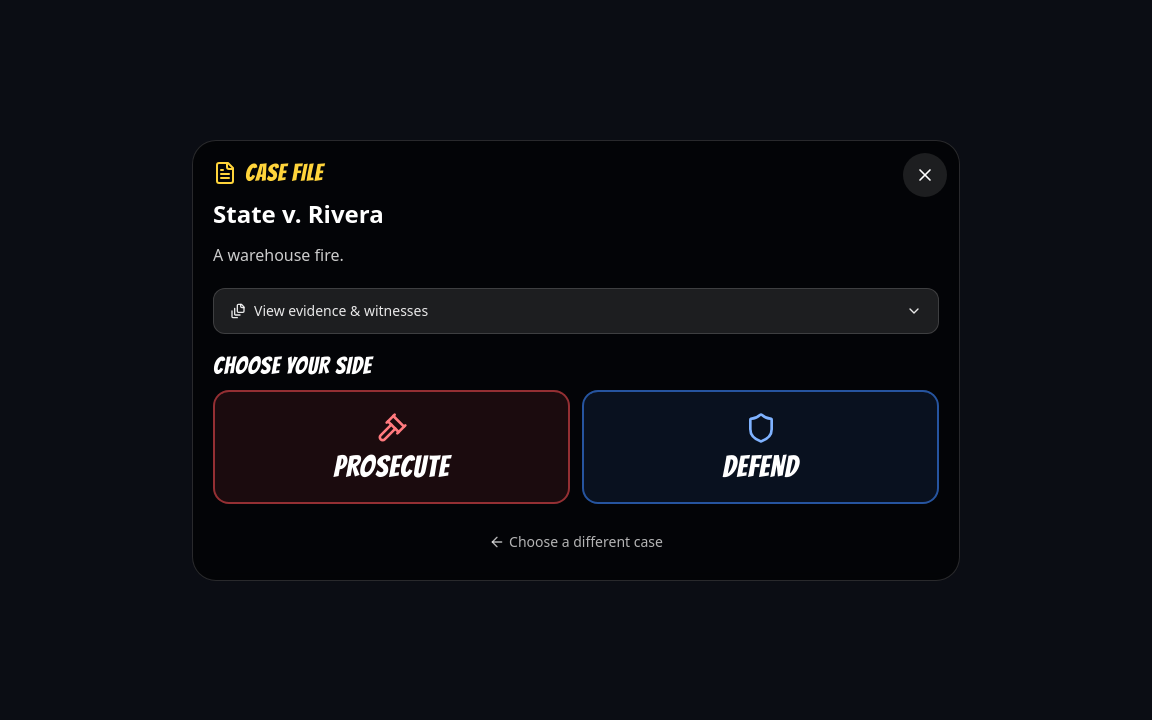
Test case: CasePreview (accept the case) › prosecution briefing, and Reject goes back to the case file
Click the button "PROSECUTE".
click(392, 446)  # box x1=213 y1=390 x2=570 y2=504
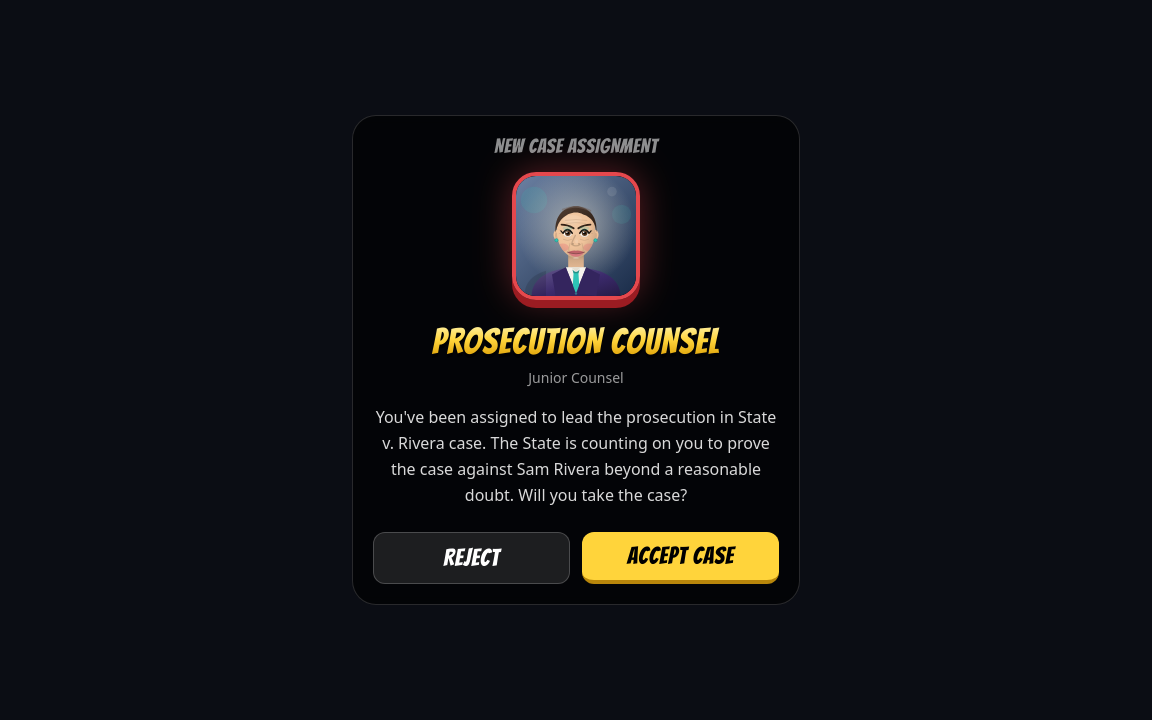
Result: the dialog named "PROSECUTION COUNSEL briefing" is shown at x1=352 y1=115 x2=800 y2=605
Result: the text "lead the prosecution in State v. Rivera" is shown at x1=376 y1=406 x2=776 y2=506
Click the button "REJECT".
click(472, 558)  # box x1=373 y1=532 x2=570 y2=584
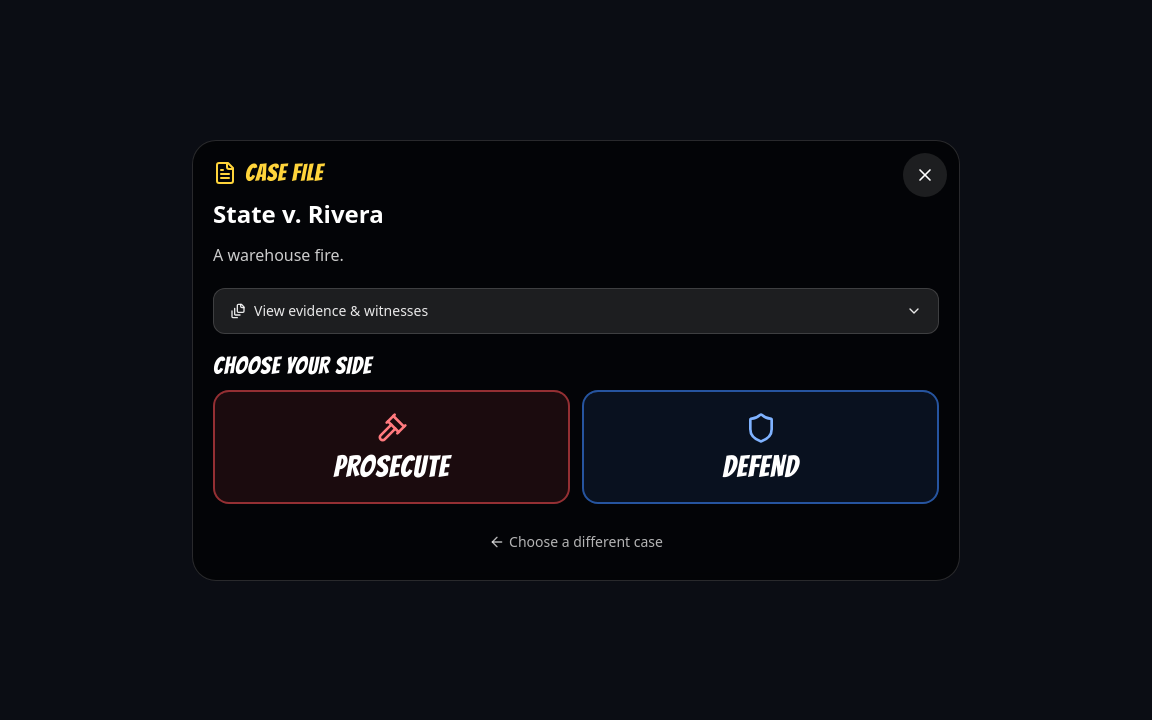
Result: the text "CASE FILE" is shown at x1=245 y1=160 x2=323 y2=184
